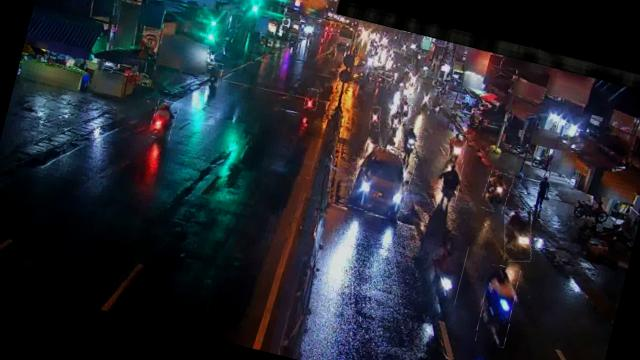Bike: (474, 264, 522, 348), (422, 239, 469, 305), (496, 207, 540, 266), (479, 170, 514, 214), (148, 99, 180, 142), (436, 160, 464, 206), (397, 125, 421, 164), (446, 132, 468, 164), (386, 114, 404, 139), (206, 62, 223, 87), (302, 88, 320, 111), (395, 96, 413, 118), (368, 106, 383, 132)
Car: (348, 143, 418, 221)
